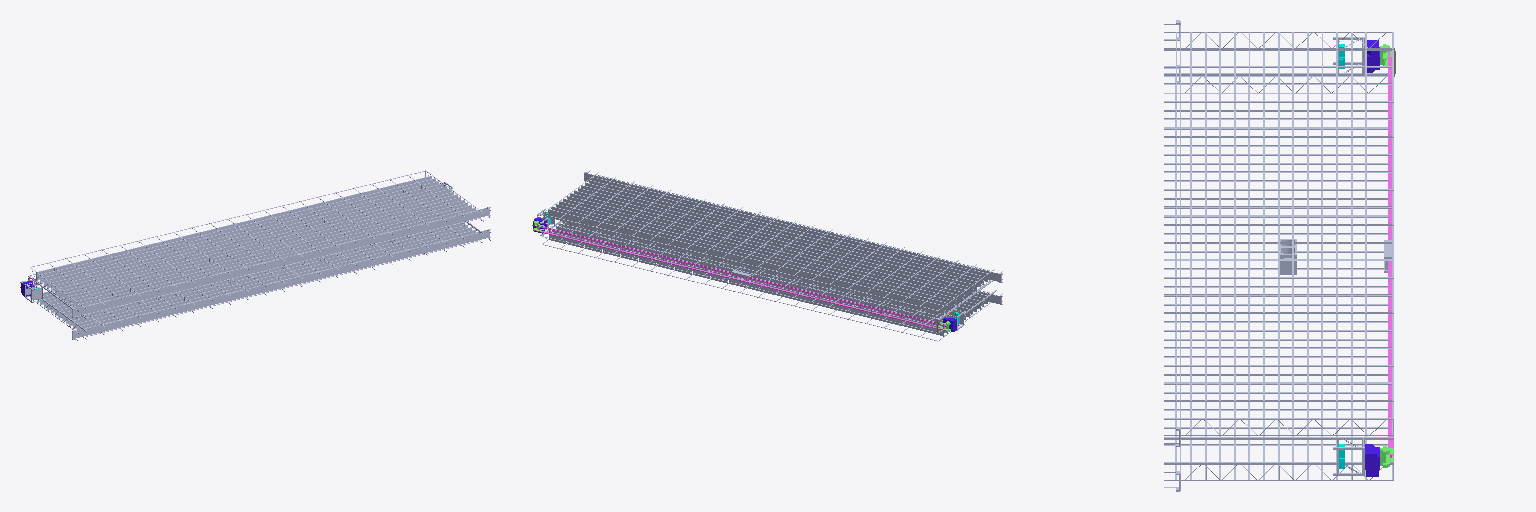
URDF robot description (shelf_final):
<?xml version="1.0" encoding="utf-8"?>
<!-- This URDF was automatically created by SolidWorks to URDF Exporter! Originally created by [author] ([email redacted]) 
     Commit Version: 1.6.0-4-g7f85cfe  Build Version: 1.6.7995.38578
     For more information, please see http://wiki.ros.org/sw_urdf_exporter -->
<robot
  name="shelf_final">
  <link
    name="base_link">
    <inertial>
      <origin
        xyz="-0.0119059827194796 3.35179528611131 -1.06181481298098"
        rpy="0 0 0" />
      <mass
        value="6729.44352960135" />
      <inertia
        ixx="5970.03602580849"
        ixy="-0.725021529693257"
        ixz="-0.00107838118443646"
        iyy="238074.036617636"
        iyz="-0.0649511588177753"
        izz="243675.416396949" />
    </inertial>
    <visual>
      <origin
        xyz="0 0 0"
        rpy="0 0 0" />
      <geometry>
        <mesh
          filename="package://shelf_final/meshes/base_link.STL" />
      </geometry>
      <material
        name="">
        <color
          rgba="0.792156862745098 0.819607843137255 0.933333333333333 1" />
      </material>
    </visual>
    <collision>
      <origin
        xyz="0 0 0"
        rpy="0 0 0" />
      <geometry>
        <mesh
          filename="package://shelf_final/meshes/base_link.STL" />
      </geometry>
    </collision>
  </link>
  <link
    name="R02_2">
    <inertial>
      <origin
        xyz="-0.011906 3.3595 1.0615"
        rpy="0 0 0" />
      <mass
        value="6729.4" />
      <inertia
        ixx="5970"
        ixy="-0.72502"
        ixz="-0.0010784"
        iyy="238070"
        iyz="-0.064951"
        izz="243680" />
    </inertial>
    <visual>
      <origin
        xyz="0 0 0"
        rpy="0 0 0" />
      <geometry>
        <mesh
          filename="package://shelf_final/meshes/R02_2.STL" />
      </geometry>
      <material
        name="">
        <color
          rgba="0.79216 0.81961 0.93333 1" />
      </material>
    </visual>
    <collision>
      <origin
        xyz="0 0 0"
        rpy="0 0 0" />
      <geometry>
        <mesh
          filename="package://shelf_final/meshes/R02_2.STL" />
      </geometry>
    </collision>
  </link>
  <joint
    name="R02_2_joint"
    type="fixed">
    <origin
      xyz="0 0 0"
      rpy="0 0 0" />
    <parent
      link="base_link" />
    <child
      link="R02_2" />
    <axis
      xyz="0 0 0" />
  </joint>
  <link
    name="ss_1">
    <inertial>
      <origin
        xyz="20.165 5.2204 -0.013527"
        rpy="0 0 0" />
      <mass
        value="220.69" />
      <inertia
        ixx="1836.8"
        ixy="-104.65"
        ixz="-0.18124"
        iyy="111.81"
        iyz="-1.5466"
        izz="1803.4" />
    </inertial>
    <visual>
      <origin
        xyz="0 0 0"
        rpy="0 0 0" />
      <geometry>
        <mesh
          filename="package://shelf_final/meshes/ss_1.STL" />
      </geometry>
      <material
        name="">
        <color
          rgba="0.79216 0.81961 0.93333 1" />
      </material>
    </visual>
    <collision>
      <origin
        xyz="0 0 0"
        rpy="0 0 0" />
      <geometry>
        <mesh
          filename="package://shelf_final/meshes/ss_1.STL" />
      </geometry>
    </collision>
  </link>
  <joint
    name="ss_1_joint"
    type="fixed">
    <origin
      xyz="0 0 0"
      rpy="0 0 0" />
    <parent
      link="base_link" />
    <child
      link="ss_1" />
    <axis
      xyz="0 0 0" />
  </joint>
  <link
    name="ss_2">
    <inertial>
      <origin
        xyz="-20.191 5.2204 -0.018473"
        rpy="0 0 0" />
      <mass
        value="220.69" />
      <inertia
        ixx="1836.8"
        ixy="104.65"
        ixz="-0.18124"
        iyy="111.81"
        iyz="1.5466"
        izz="1803.4" />
    </inertial>
    <visual>
      <origin
        xyz="0 0 0"
        rpy="0 0 0" />
      <geometry>
        <mesh
          filename="package://shelf_final/meshes/ss_2.STL" />
      </geometry>
      <material
        name="">
        <color
          rgba="0.79216 0.81961 0.93333 1" />
      </material>
    </visual>
    <collision>
      <origin
        xyz="0 0 0"
        rpy="0 0 0" />
      <geometry>
        <mesh
          filename="package://shelf_final/meshes/ss_2.STL" />
      </geometry>
    </collision>
  </link>
  <joint
    name="ss_2_joint"
    type="fixed">
    <origin
      xyz="0 0 0"
      rpy="0 0 0" />
    <parent
      link="base_link" />
    <child
      link="ss_2" />
    <axis
      xyz="0 0 0" />
  </joint>
  <link
    name="bank1">
    <inertial>
      <origin
        xyz="20.5029186382663 7.08377601568918 0.243954327971633"
        rpy="0 0 0" />
      <mass
        value="44.87345203056" />
      <inertia
        ixx="1.08893243512574"
        ixy="-0.0227395394462278"
        ixz="-0.0565765813381709"
        iyy="1.40190372782443"
        iyz="-0.0109642007441319"
        izz="0.775873482043776" />
    </inertial>
    <visual>
      <origin
        xyz="0 0 0"
        rpy="0 0 0" />
      <geometry>
        <mesh
          filename="package://shelf_final/meshes/bank1.STL" />
      </geometry>
      <material
        name="">
        <color
          rgba="0 1 1 1" />
      </material>
    </visual>
    <collision>
      <origin
        xyz="0 0 0"
        rpy="0 0 0" />
      <geometry>
        <mesh
          filename="package://shelf_final/meshes/bank1.STL" />
      </geometry>
    </collision>
  </link>
  <joint
    name="bank1_joint"
    type="fixed">
    <origin
      xyz="0 0 0"
      rpy="0 0 0" />
    <parent
      link="base_link" />
    <child
      link="bank1" />
    <axis
      xyz="0 0 0" />
  </joint>
  <link
    name="bank2">
    <inertial>
      <origin
        xyz="20.503 7.0838 -0.28853"
        rpy="0 0 0" />
      <mass
        value="44.873" />
      <inertia
        ixx="1.0889"
        ixy="-0.02274"
        ixz="-0.056577"
        iyy="1.4019"
        iyz="-0.010964"
        izz="0.77587" />
    </inertial>
    <visual>
      <origin
        xyz="0 0 0"
        rpy="0 0 0" />
      <geometry>
        <mesh
          filename="package://shelf_final/meshes/bank2.STL" />
      </geometry>
      <material
        name="">
        <color
          rgba="0 1 1 1" />
      </material>
    </visual>
    <collision>
      <origin
        xyz="0 0 0"
        rpy="0 0 0" />
      <geometry>
        <mesh
          filename="package://shelf_final/meshes/bank2.STL" />
      </geometry>
    </collision>
  </link>
  <joint
    name="bank_joint"
    type="fixed">
    <origin
      xyz="0 0 0"
      rpy="0 0 0" />
    <parent
      link="base_link" />
    <child
      link="bank2" />
    <axis
      xyz="0 0 0" />
  </joint>
  <link
    name="bank3">
    <inertial>
      <origin
        xyz="-20.5290086382659 7.08377601568972 -0.275954327972648"
        rpy="0 0 0" />
      <mass
        value="44.8734520305594" />
      <inertia
        ixx="1.08893243512573"
        ixy="0.0227395394462287"
        ixz="-0.056576581338173"
        iyy="1.4019037278244"
        iyz="0.0109642007441325"
        izz="0.775873482043757" />
    </inertial>
    <visual>
      <origin
        xyz="0 0 0"
        rpy="0 0 0" />
      <geometry>
        <mesh
          filename="package://shelf_final/meshes/bank3.STL" />
      </geometry>
      <material
        name="">
        <color
          rgba="0 1 1 1" />
      </material>
    </visual>
    <collision>
      <origin
        xyz="0 0 0"
        rpy="0 0 0" />
      <geometry>
        <mesh
          filename="package://shelf_final/meshes/bank3.STL" />
      </geometry>
    </collision>
  </link>
  <joint
    name="bank3_joint"
    type="fixed">
    <origin
      xyz="0 0 0"
      rpy="0 0 0" />
    <parent
      link="base_link" />
    <child
      link="bank3" />
    <axis
      xyz="0 0 0" />
  </joint>
  <link
    name="bank4">
    <inertial>
      <origin
        xyz="-20.5290086382659 7.08377601568973 0.256525672027353"
        rpy="0 0 0" />
      <mass
        value="44.8734520305594" />
      <inertia
        ixx="1.08893243512573"
        ixy="0.0227395394462286"
        ixz="-0.0565765813381727"
        iyy="1.4019037278244"
        iyz="0.0109642007441326"
        izz="0.775873482043756" />
    </inertial>
    <visual>
      <origin
        xyz="0 0 0"
        rpy="0 0 0" />
      <geometry>
        <mesh
          filename="package://shelf_final/meshes/bank4.STL" />
      </geometry>
      <material
        name="">
        <color
          rgba="0 1 1 1" />
      </material>
    </visual>
    <collision>
      <origin
        xyz="0 0 0"
        rpy="0 0 0" />
      <geometry>
        <mesh
          filename="package://shelf_final/meshes/bank4.STL" />
      </geometry>
    </collision>
  </link>
  <joint
    name="bank4_joint"
    type="fixed">
    <origin
      xyz="0 0 0"
      rpy="0 0 0" />
    <parent
      link="base_link" />
    <child
      link="bank4" />
    <axis
      xyz="0 0 0" />
  </joint>
  <link
    name="traction1">
    <inertial>
      <origin
        xyz="-20.5970606037827 8.40240452182772 -0.0674392917392126"
        rpy="0 0 0" />
      <mass
        value="658.695236191601" />
      <inertia
        ixx="79.9062278397817"
        ixy="-0.832582400576053"
        ixz="1.34637813596932"
        iyy="115.026088164627"
        iyz="-5.84155683296361"
        izz="78.3289504857747" />
    </inertial>
    <visual>
      <origin
        xyz="0 0 0"
        rpy="0 0 0" />
      <geometry>
        <mesh
          filename="package://shelf_final/meshes/traction1.STL" />
      </geometry>
      <material
        name="">
        <color
          rgba="0.341176470588235 0.145098039215686 1 1" />
      </material>
    </visual>
    <collision>
      <origin
        xyz="0 0 0"
        rpy="0 0 0" />
      <geometry>
        <mesh
          filename="package://shelf_final/meshes/traction1.STL" />
      </geometry>
    </collision>
  </link>
  <joint
    name="traction1_joint"
    type="fixed">
    <origin
      xyz="0 0 0"
      rpy="0 0 0" />
    <parent
      link="base_link" />
    <child
      link="traction1" />
    <axis
      xyz="0 0 0" />
  </joint>
  <link
    name="traction2">
    <inertial>
      <origin
        xyz="20.571 8.4024 -0.17071"
        rpy="0 0 0" />
      <mass
        value="658.7" />
      <inertia
        ixx="79.906"
        ixy="0.83258"
        ixz="1.3464"
        iyy="115.03"
        iyz="5.8416"
        izz="78.329" />
    </inertial>
    <visual>
      <origin
        xyz="0 0 0"
        rpy="0 0 0" />
      <geometry>
        <mesh
          filename="package://shelf_final/meshes/traction2.STL" />
      </geometry>
      <material
        name="">
        <color
          rgba="0.34118 0.1451 1 1" />
      </material>
    </visual>
    <collision>
      <origin
        xyz="0 0 0"
        rpy="0 0 0" />
      <geometry>
        <mesh
          filename="package://shelf_final/meshes/traction2.STL" />
      </geometry>
    </collision>
  </link>
  <joint
    name="traction2_joint"
    type="fixed">
    <origin
      xyz="0 0 0"
      rpy="0 0 0" />
    <parent
      link="base_link" />
    <child
      link="traction2" />
    <axis
      xyz="0 0 0" />
  </joint>
  <link
    name="part7_1">
    <inertial>
      <origin
        xyz="20.592 8.9348 -0.016"
        rpy="0 0 0" />
      <mass
        value="74.785" />
      <inertia
        ixx="6.1888"
        ixy="-0.11501"
        ixz="7.8108E-15"
        iyy="6.8074"
        iyz="2.529E-16"
        izz="2.7198" />
    </inertial>
    <visual>
      <origin
        xyz="0 0 0"
        rpy="0 0 0" />
      <geometry>
        <mesh
          filename="package://shelf_final/meshes/part7_1.STL" />
      </geometry>
      <material
        name="">
        <color
          rgba="0.50196 1 0.50196 1" />
      </material>
    </visual>
    <collision>
      <origin
        xyz="0 0 0"
        rpy="0 0 0" />
      <geometry>
        <mesh
          filename="package://shelf_final/meshes/part7_1.STL" />
      </geometry>
    </collision>
  </link>
  <joint
    name="part7_1_joint"
    type="fixed">
    <origin
      xyz="0 0 0"
      rpy="0 0 0" />
    <parent
      link="base_link" />
    <child
      link="part7_1" />
    <axis
      xyz="0 0 0" />
  </joint>
  <link
    name="part7_2">
    <inertial>
      <origin
        xyz="-20.618 8.9348 -0.016"
        rpy="0 0 0" />
      <mass
        value="74.785" />
      <inertia
        ixx="6.1888"
        ixy="0.11501"
        ixz="-1.0148E-15"
        iyy="6.8074"
        iyz="-4.2415E-17"
        izz="2.7198" />
    </inertial>
    <visual>
      <origin
        xyz="0 0 0"
        rpy="0 0 0" />
      <geometry>
        <mesh
          filename="package://shelf_final/meshes/part7_2.STL" />
      </geometry>
      <material
        name="">
        <color
          rgba="0.50196 1 0.50196 1" />
      </material>
    </visual>
    <collision>
      <origin
        xyz="0 0 0"
        rpy="0 0 0" />
      <geometry>
        <mesh
          filename="package://shelf_final/meshes/part7_2.STL" />
      </geometry>
    </collision>
  </link>
  <joint
    name="part7_2_joint"
    type="fixed">
    <origin
      xyz="0 0 0"
      rpy="0 0 0" />
    <parent
      link="base_link" />
    <child
      link="part7_2" />
    <axis
      xyz="0 0 0" />
  </joint>
  <link
    name="roof_rack">
    <inertial>
      <origin
        xyz="-19.879 9.3681 -0.016"
        rpy="0 0 0" />
      <mass
        value="14.87" />
      <inertia
        ixx="1.8876"
        ixy="4.4209E-15"
        ixz="2.5317E-15"
        iyy="1.9364"
        iyz="-1.3457E-15"
        izz="0.06982" />
    </inertial>
    <visual>
      <origin
        xyz="0 0 0"
        rpy="0 0 0" />
      <geometry>
        <mesh
          filename="package://shelf_final/meshes/roof_rack.STL" />
      </geometry>
      <material
        name="">
        <color
          rgba="0.65098 0.61961 0.58824 1" />
      </material>
    </visual>
    <collision>
      <origin
        xyz="0 0 0"
        rpy="0 0 0" />
      <geometry>
        <mesh
          filename="package://shelf_final/meshes/roof_rack.STL" />
      </geometry>
    </collision>
  </link>
  <joint
    name="roof_rack_joint"
    type="fixed">
    <origin
      xyz="0 0 0"
      rpy="0 0 0" />
    <parent
      link="base_link" />
    <child
      link="roof_rack" />
    <axis
      xyz="0 0 0" />
  </joint>
  <link
    name="roof_rack2">
    <inertial>
      <origin
        xyz="-0.023372 9.2264 -0.036671"
        rpy="0 0 0" />
      <mass
        value="207.81" />
      <inertia
        ixx="9.8571"
        ixy="-0.079615"
        ixz="-1.1544E-10"
        iyy="29953"
        iyz="6.616E-13"
        izz="29945" />
    </inertial>
    <visual>
      <origin
        xyz="0 0 0"
        rpy="0 0 0" />
      <geometry>
        <mesh
          filename="package://shelf_final/meshes/roof_rack2.STL" />
      </geometry>
      <material
        name="">
        <color
          rgba="1 0.50196 1 1" />
      </material>
    </visual>
    <collision>
      <origin
        xyz="0 0 0"
        rpy="0 0 0" />
      <geometry>
        <mesh
          filename="package://shelf_final/meshes/roof_rack2.STL" />
      </geometry>
    </collision>
  </link>
  <joint
    name="roof_rack2_joint"
    type="fixed">
    <origin
      xyz="0 0 0"
      rpy="0 0 0" />
    <parent
      link="base_link" />
    <child
      link="roof_rack2" />
    <axis
      xyz="0 0 0" />
  </joint>
  <link
    name="trolley">
    <inertial>
      <origin
        xyz="0 0.20546 -2.2204E-16"
        rpy="0 0 0" />
      <mass
        value="223.98" />
      <inertia
        ixx="24.976"
        ixy="1.9995E-16"
        ixz="-4.452E-15"
        iyy="83.309"
        iyz="-4.7011E-16"
        izz="64.945" />
    </inertial>
    <visual>
      <origin
        xyz="0 0 0"
        rpy="0 0 0" />
      <geometry>
        <mesh
          filename="package://shelf_final/meshes/trolley.STL" />
      </geometry>
      <material
        name="">
        <color
          rgba="0.79216 0.81961 0.93333 1" />
      </material>
    </visual>
    <collision>
      <origin
        xyz="0 0 0"
        rpy="0 0 0" />
      <geometry>
        <mesh
          filename="package://shelf_final/meshes/trolley.STL" />
      </geometry>
    </collision>
  </link>
  <joint
    name="trolley_joint"
    type="prismatic">
    <origin
      xyz="-0.013045 8.8907 -0.036671"
      rpy="0 0 0" />
    <parent
      link="roof_rack2" />
    <child
      link="trolley" />
    <axis
      xyz="-1 0 0" />
    <limit
      lower="0"
      upper="0"
      effort="0"
      velocity="0" />
  </joint>
  <link
    name="carriage">
    <inertial>
      <origin
        xyz="0.041968 0.30521 0.00022218"
        rpy="0 0 0" />
      <mass
        value="444.85" />
      <inertia
        ixx="59.409"
        ixy="3.9487E-14"
        ixz="1.8761E-14"
        iyy="141.75"
        iyz="2.0147E-14"
        izz="134.72" />
    </inertial>
    <visual>
      <origin
        xyz="0 0 0"
        rpy="0 0 0" />
      <geometry>
        <mesh
          filename="package://shelf_final/meshes/carriage.STL" />
      </geometry>
      <material
        name="">
        <color
          rgba="0.79216 0.81961 0.93333 1" />
      </material>
    </visual>
    <collision>
      <origin
        xyz="0 0 0"
        rpy="0 0 0" />
      <geometry>
        <mesh
          filename="package://shelf_final/meshes/carriage.STL" />
      </geometry>
    </collision>
  </link>
  <joint
    name="carriage_joint"
    type="prismatic">
    <origin
      xyz="0 -4.5358 0"
      rpy="0 0 0" />
    <parent
      link="trolley" />
    <child
      link="carriage" />
    <axis
      xyz="0 1 0" />
    <limit
      lower="0"
      upper="0"
      effort="0"
      velocity="0" />
  </joint>
</robot>

--- What the picture shows (computed from the rendered views, not written in the file) ---
Views: 3 orthographic renders of the robot side by side, from view 1: azimuth 30°, elevation 25°; view 2: azimuth 150°, elevation 25°; view 3: azimuth 270°, elevation 25°.
Robot: shelf_final — 16 links, 15 joints (2 prismatic, 13 fixed); root link base_link; default pose: all joints at 0.
Links seen in each view (by area): view 1: R02_2, base_link; view 2: R02_2, base_link, roof_rack2; view 3: R02_2, base_link, ss_1, roof_rack2, ss_2.
Link boxes in pixels (bbox=[...]): R02_2: bbox=[30, 170, 490, 318]; base_link: bbox=[30, 222, 490, 340]; R02_2: bbox=[541, 170, 1002, 319]; base_link: bbox=[542, 221, 1002, 341]; roof_rack2: bbox=[532, 225, 947, 330]; R02_2: bbox=[1164, 20, 1393, 446]; base_link: bbox=[1164, 65, 1393, 491]; ss_1: bbox=[1164, 437, 1393, 475]; roof_rack2: bbox=[1388, 51, 1393, 464]; ss_2: bbox=[1164, 37, 1391, 75].
Size in the robot's own frame: 42.2 by 10.1 by 2.98 metres.
16 mesh visuals loaded from 16 distinct referenced files (16 binary STL).